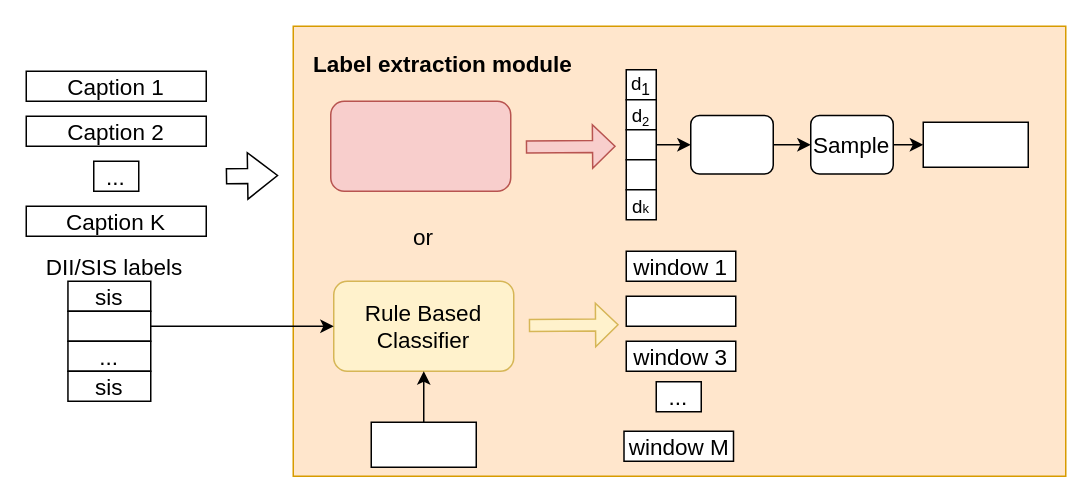
Some shapes in this 1092 by 503 pixel diagram are drawn without their labels. The shapes that lost their labels are listed below. From the top down, each one's centre as x and y in pixels, then its label:
[420,145]: Alignment Classifier
[731,144]: Sort
[975,144]: caption
[108,325]: dii
[680,310]: window 2
[423,444]: gerund
